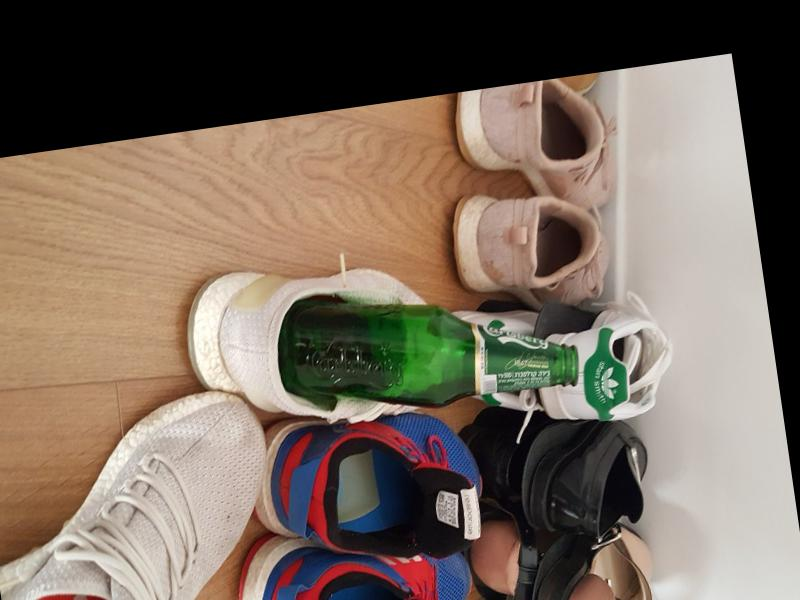Beer: (271, 264, 579, 430)
